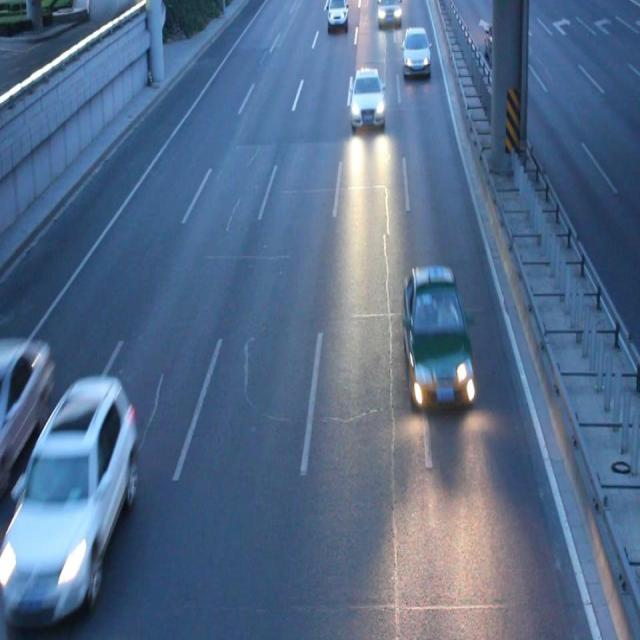car: (10, 375, 135, 604), (401, 264, 474, 410), (349, 68, 385, 128), (401, 27, 430, 75), (374, 1, 400, 27), (326, 1, 347, 29)
